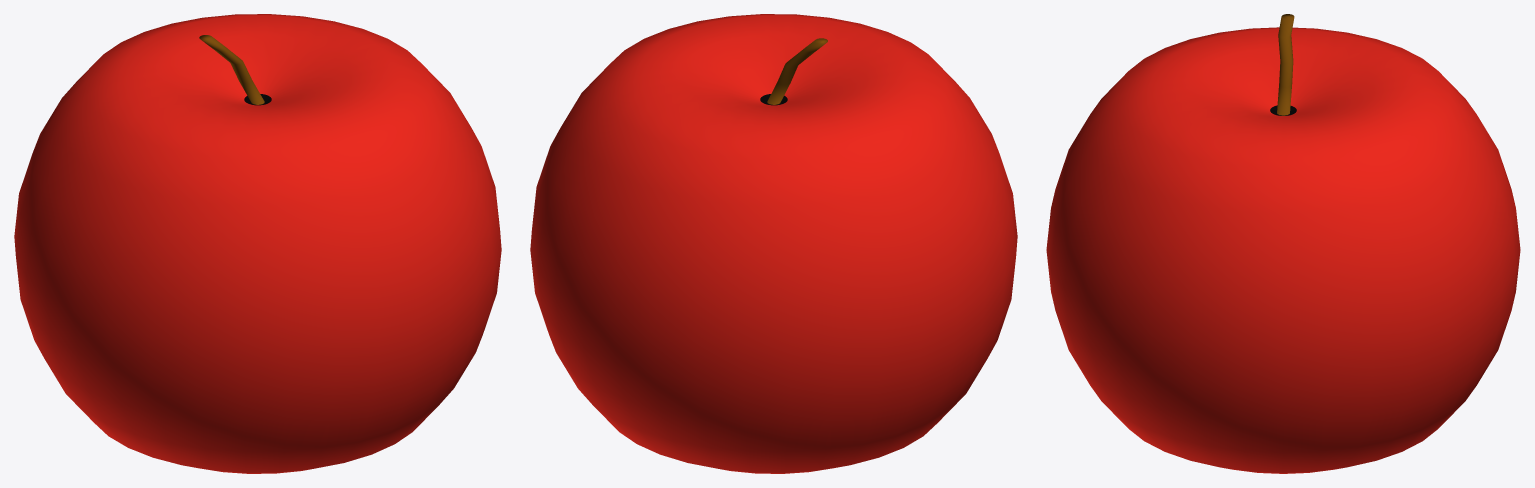
File: apple.glb
3 views of the same model, side by side, from view 1: azimuth 30°, elevation 25°; view 2: azimuth 150°, elevation 25°; view 3: azimuth 270°, elevation 25° (orthographic). The views are drawn at different scales.
Visible parts, largest first — view 1: Sphere; view 2: Sphere; view 3: Sphere.
Part boxes in pixels (left/top/right/bottom): Sphere: left=14, top=14, right=501, bottom=473; Sphere: left=530, top=14, right=1017, bottom=473; Sphere: left=1046, top=14, right=1520, bottom=473.
Size of the model in its own units: 2 by 1.79 by 2.
